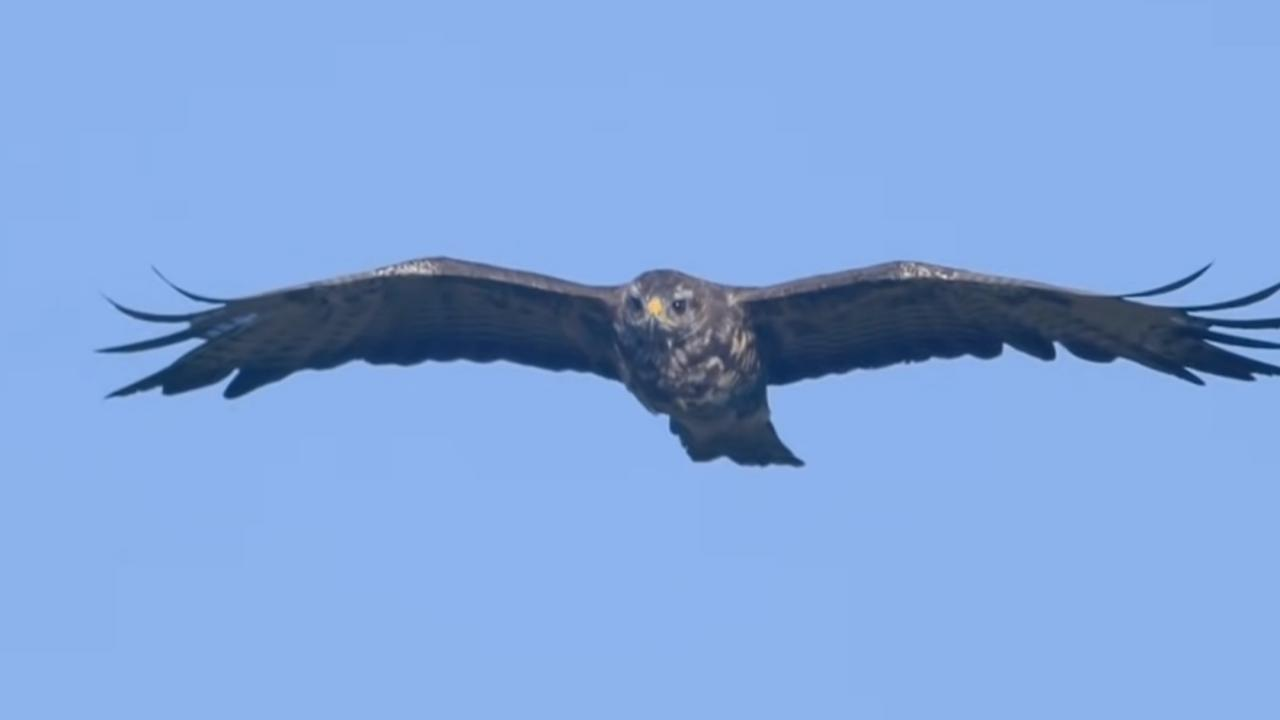Bird: (90, 250, 1280, 476)
